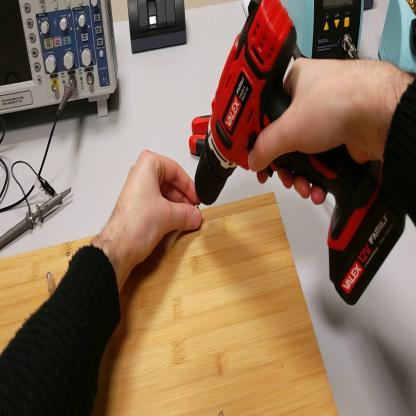electric screwdriver: (196, 1, 408, 306)
hand: (252, 55, 378, 195), (112, 152, 202, 263)
oscilloscope: (2, 2, 121, 120)
oscilloscope probe tip: (1, 186, 75, 251)
pliers: (190, 111, 213, 154)
welder base: (380, 1, 416, 78)
welder station: (282, 3, 365, 58)
working area: (1, 191, 340, 415)
